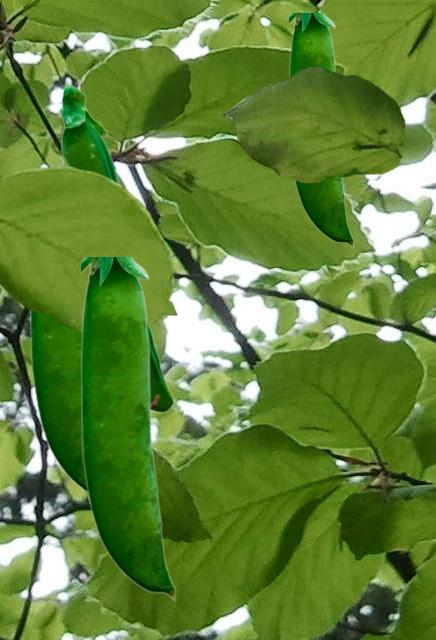pea: (58, 82, 173, 412), (81, 257, 175, 600), (289, 13, 353, 247), (30, 312, 86, 493)
